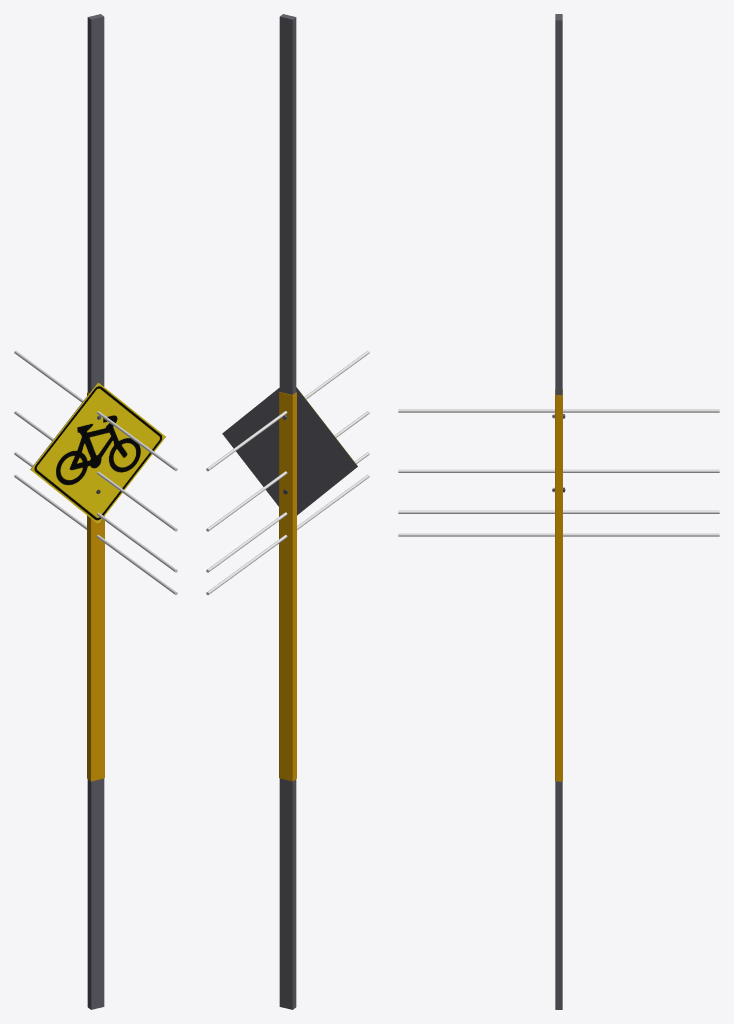
The model's file is bike.glb.
3 views of the same model, side by side, from view 1: azimuth 30°, elevation 25°; view 2: azimuth 150°, elevation 25°; view 3: azimuth 270°, elevation 25° (orthographic).
Visible parts, largest first — view 1: Cube.001, Grid, Cube, Cylinder.001, Cylinder.002, Cylinder.003, Cylinder; view 2: Cube.001, Grid.001, Cube, Cylinder.001, Cylinder.002, Cylinder.003, Cylinder; view 3: Cube.001, Cube, Cylinder, Cylinder.001, Cylinder.002, Cylinder.003.
Part boxes in pixels (x1=…): Cube.001: x1=87, y1=14, x2=104, y2=1009; Grid: x1=30, y1=382, x2=165, y2=523; Cube: x1=87, y1=392, x2=104, y2=781; Cylinder.001: x1=14, y1=474, x2=177, y2=594; Cylinder.002: x1=14, y1=350, x2=177, y2=471; Cylinder.003: x1=14, y1=411, x2=177, y2=531; Cylinder: x1=14, y1=452, x2=177, y2=572; Cube.001: x1=279, y1=14, x2=296, y2=1009; Grid.001: x1=222, y1=388, x2=357, y2=515; Cube: x1=279, y1=392, x2=296, y2=781; Cylinder.001: x1=206, y1=474, x2=369, y2=594; Cylinder.002: x1=206, y1=350, x2=369, y2=471; Cylinder.003: x1=206, y1=411, x2=369, y2=531; Cylinder: x1=206, y1=452, x2=369, y2=572; Cube.001: x1=555, y1=14, x2=562, y2=1009; Cube: x1=555, y1=389, x2=562, y2=781; Cylinder: x1=398, y1=510, x2=719, y2=513; Cylinder.001: x1=398, y1=533, x2=719, y2=536; Cylinder.002: x1=398, y1=409, x2=719, y2=412; Cylinder.003: x1=398, y1=469, x2=719, y2=472.
Size of the model in its own units: 0.9753 by 6.8 by 2.
Materials: 4 (1 with a texture image).
